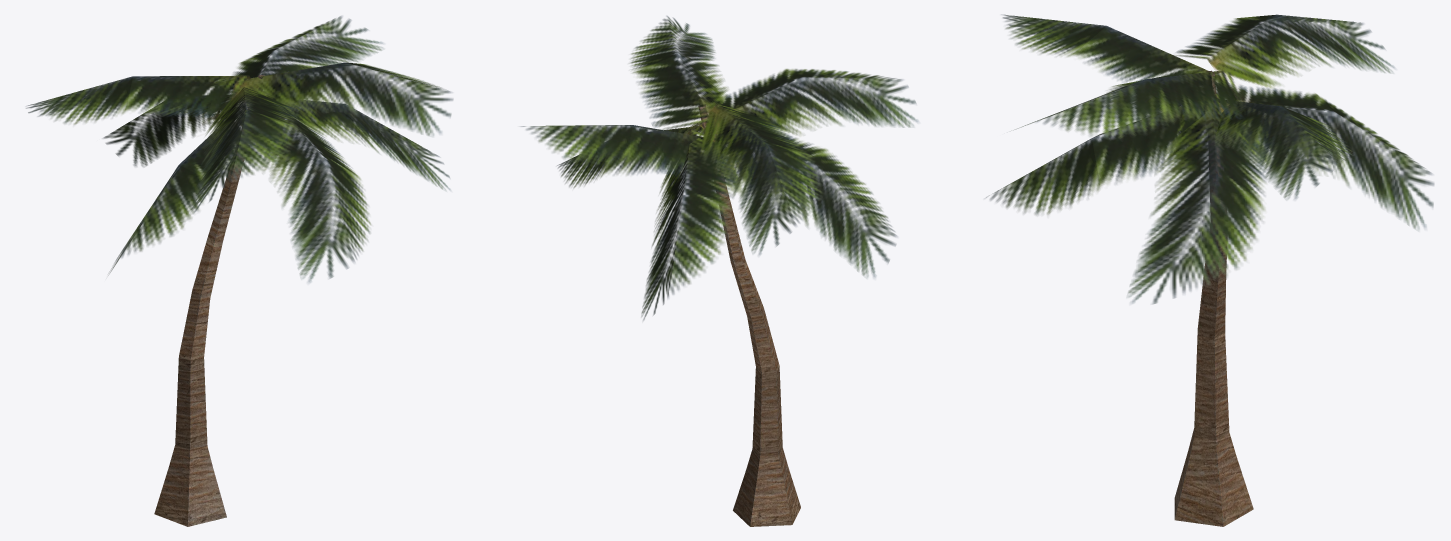
The model's file is palm.glb.
3 renders of one model, left to right at view 1: azimuth 30°, elevation 25°; view 2: azimuth 150°, elevation 25°; view 3: azimuth 270°, elevation 25°, orthographic. The views are drawn at different scales.
Parts seen in each view (by area): view 1: Object_2; view 2: Object_2; view 3: Object_2.
Boxes of the visible parts, x1,y1,x2,y2 form: Object_2: (26, 16, 453, 526); Object_2: (520, 16, 918, 526); Object_2: (985, 14, 1434, 526).
Bounding box in the file's own units: 5.14 × 5.81 × 5.06.
1 material, 1 textured.
